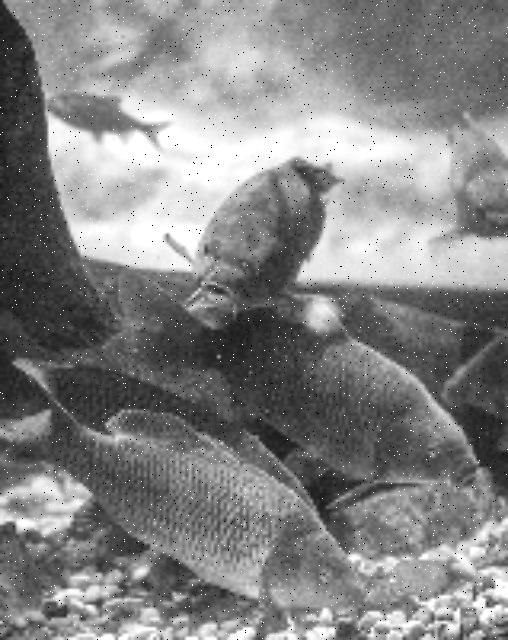Mulut: (184, 267, 246, 329)
Sirip Ekor: (4, 346, 88, 490)
Sirip Punggung: (103, 390, 331, 510)
